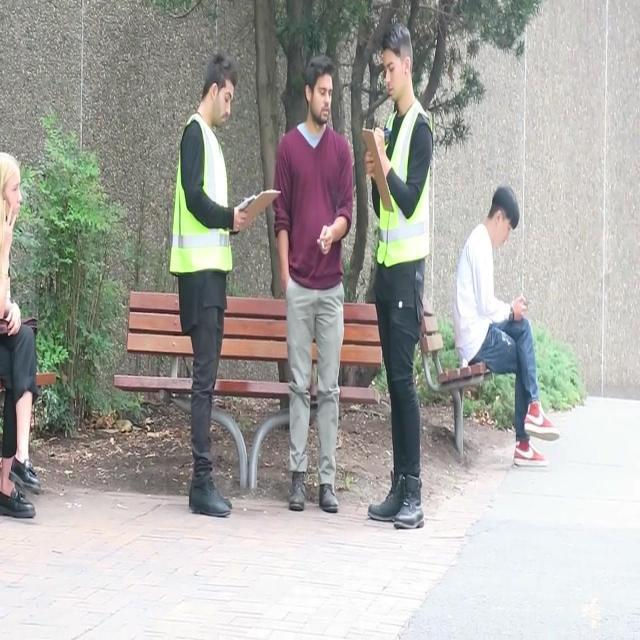reflective_jacket: (163, 111, 237, 288), (369, 97, 439, 279)
